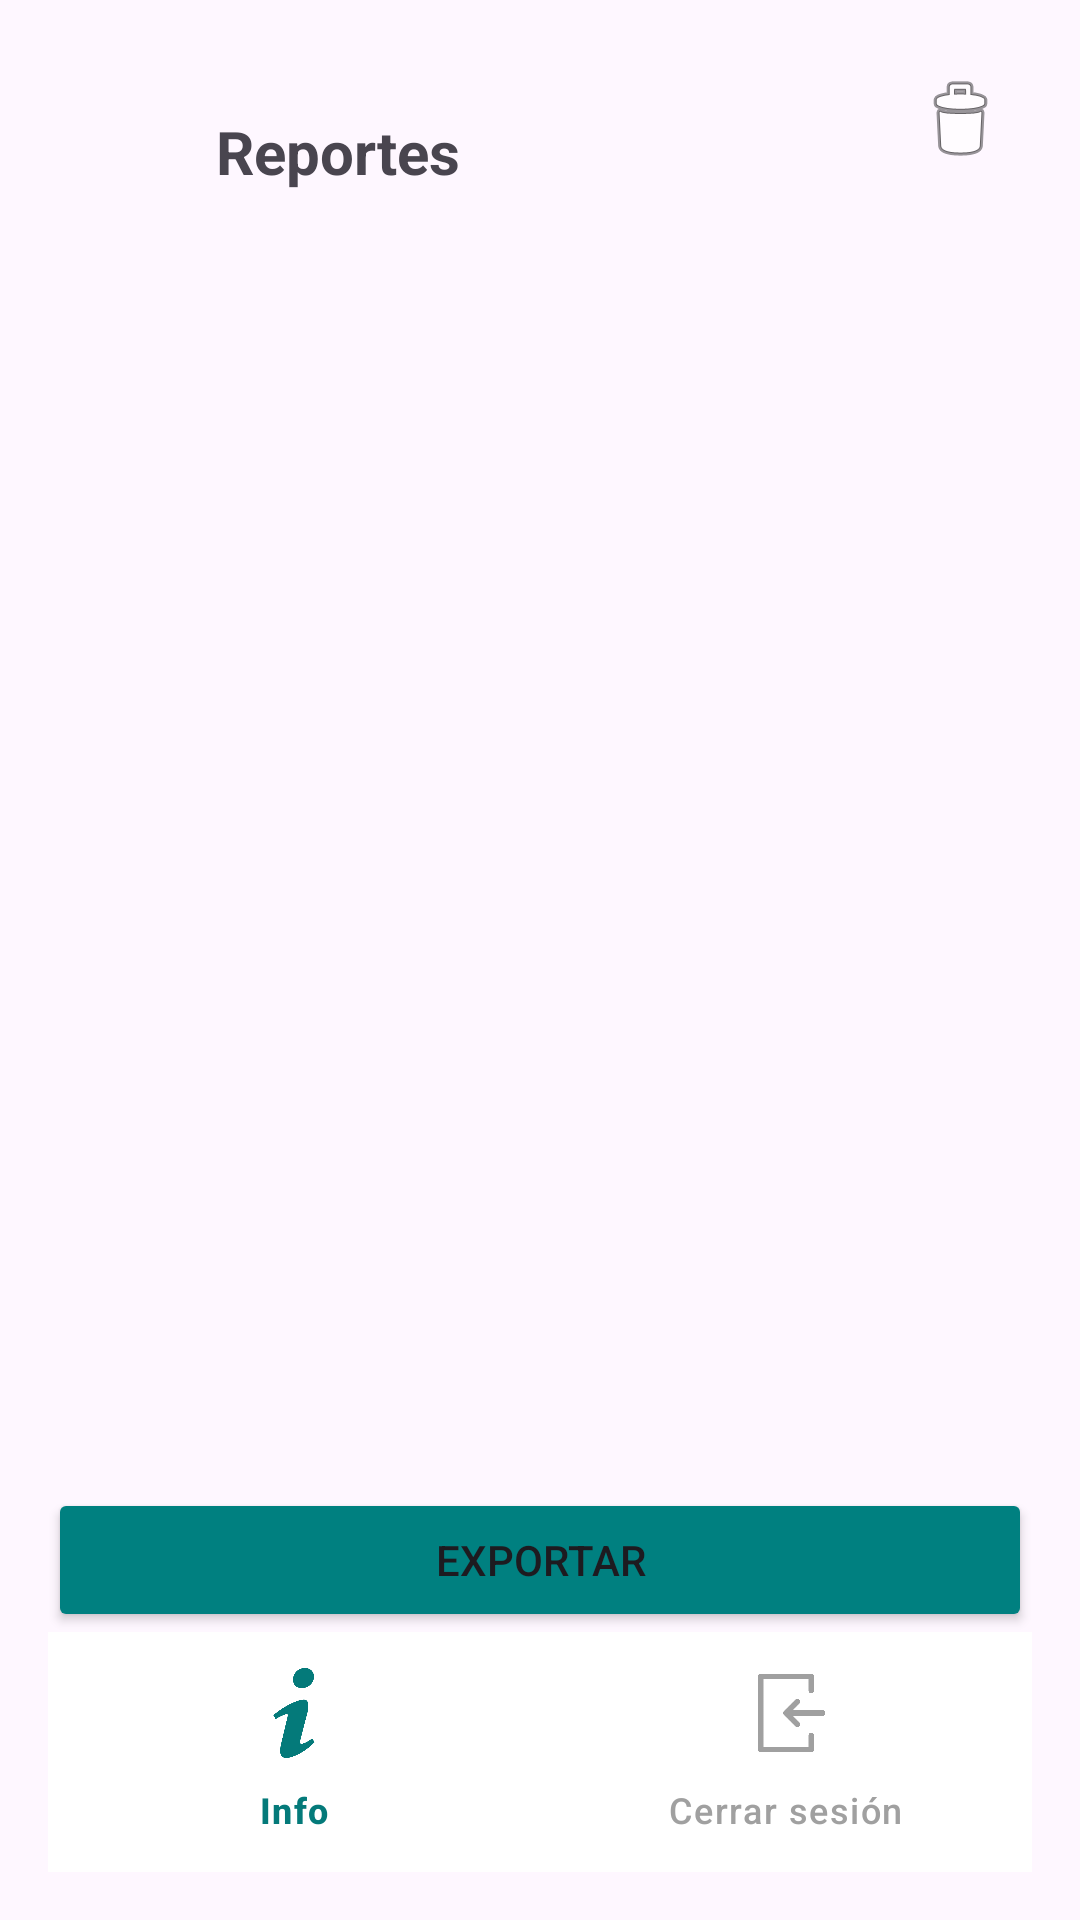

Named icons in this screenshot (1080*1920) and their bounding boxes, (x1, y1, x2, y2):
Borrar seleccionados: (933, 81, 988, 156)
